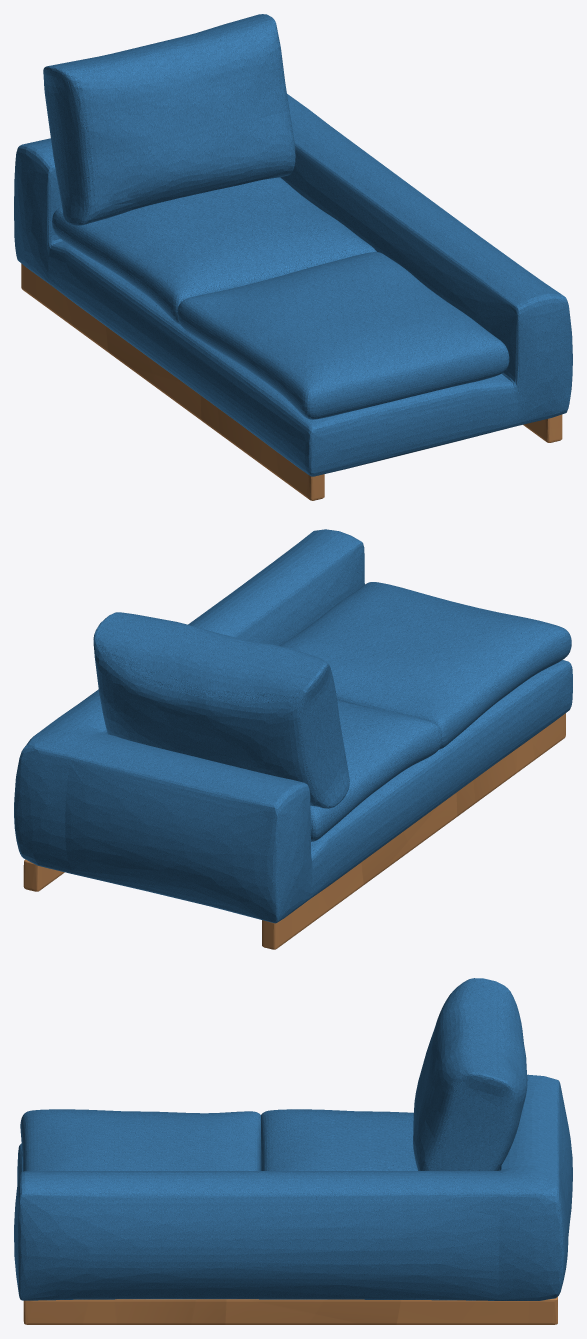
The model's file is couch_chaiselong.gltf.
3 renders of one model, top to bottom at view 1: azimuth 30°, elevation 25°; view 2: azimuth 150°, elevation 25°; view 3: azimuth 270°, elevation 25°, orthographic. The views are drawn at different scales.
Parts seen in each view (by area): view 1: Cube.038, Cube.034, Cube.048, Cube.040, Cube.043; view 2: Cube.038, Cube.034, Cube.048, Cube.043, Cube.040; view 3: Cube.038, Cube.034, Cube.048, Cube.043, Cube.040.
Part boxes in pixels (left/top/right/bottom): Cube.038: left=14, top=94, right=572, bottom=476; Cube.034: left=43, top=14, right=295, bottom=225; Cube.048: left=177, top=252, right=509, bottom=419; Cube.040: left=52, top=177, right=376, bottom=324; Cube.043: left=21, top=263, right=562, bottom=500; Cube.038: left=14, top=529, right=572, bottom=923; Cube.034: left=93, top=612, right=349, bottom=808; Cube.048: left=279, top=582, right=571, bottom=749; Cube.043: left=23, top=713, right=565, bottom=949; Cube.040: left=310, top=700, right=442, bottom=841; Cube.038: left=14, top=1074, right=572, bottom=1300; Cube.034: left=413, top=978, right=527, bottom=1170; Cube.048: left=20, top=1109, right=260, bottom=1171; Cube.043: left=23, top=1296, right=557, bottom=1324; Cube.040: left=261, top=1109, right=417, bottom=1170.
Bounding box in the file's own units: 0.8458 × 0.7362 × 1.6.
Materials: 2 (2 with a texture image).
